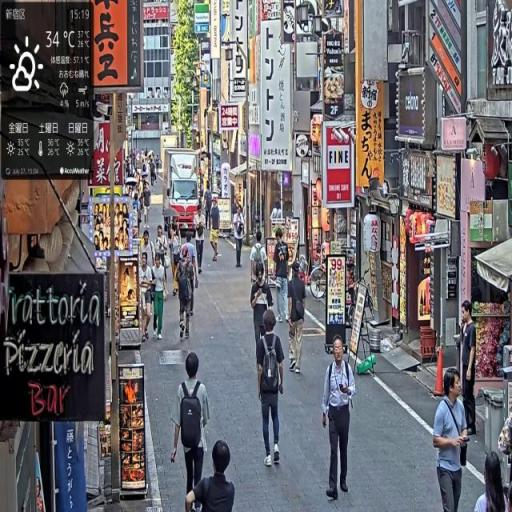person: (320, 336, 359, 503), (172, 352, 212, 511), (433, 370, 471, 512), (256, 309, 287, 473), (185, 441, 238, 512), (459, 303, 478, 452), (251, 264, 274, 385), (288, 261, 309, 376), (472, 451, 509, 512), (138, 250, 156, 343), (152, 251, 169, 341), (209, 196, 223, 267), (233, 201, 247, 271), (170, 227, 183, 299), (195, 206, 206, 275)
